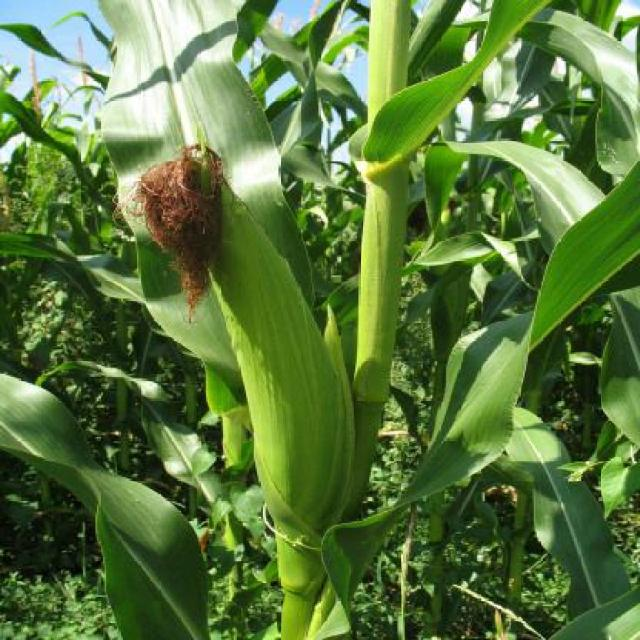Corn: (135, 172, 437, 550)
